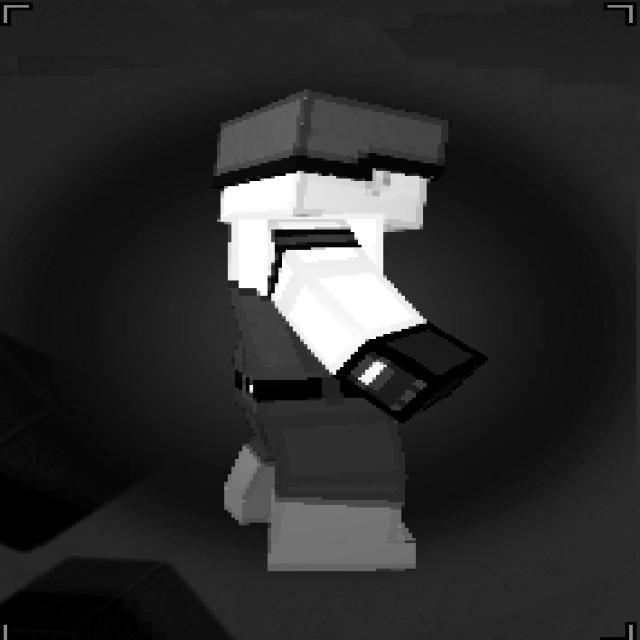Head: (210, 87, 451, 230)
Player: (206, 87, 488, 571)
